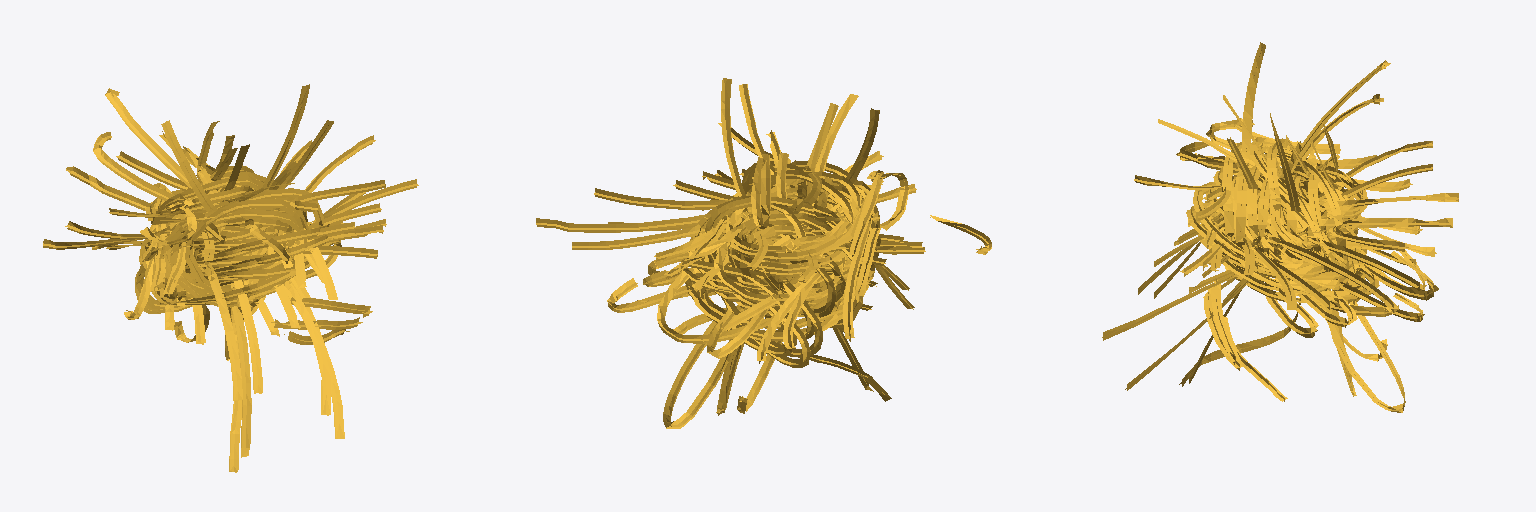
3 renders of one model, left to right at view 1: azimuth 30°, elevation 25°; view 2: azimuth 150°, elevation 25°; view 3: azimuth 270°, elevation 25°, orthographic.
Bounding box in the file's own units: 0.8387 × 0.7529 × 0.7417.
Materials: 1 (1 with a texture image).